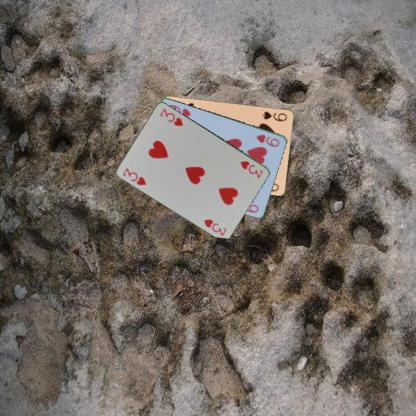3h: (121, 165, 148, 187), (238, 158, 264, 179)
9h: (254, 132, 281, 148)
9s: (260, 108, 288, 122)
